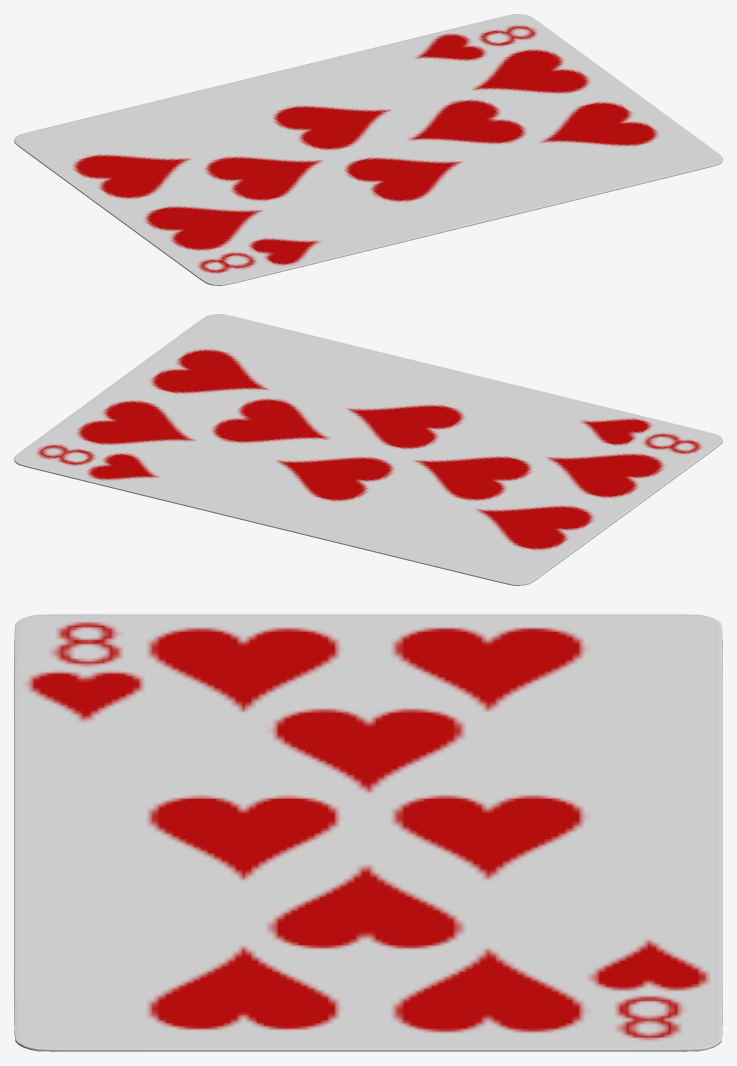
Rendered from __of_hearts6.fbx.
3 renders of one model, top to bottom at view 1: azimuth 30°, elevation 25°; view 2: azimuth 150°, elevation 25°; view 3: azimuth 270°, elevation 25°, orthographic. The views are drawn at different scales.
Visible parts, largest first — view 1: __of_hearts6; view 2: __of_hearts6; view 3: __of_hearts6.
Part boxes in pixels (box(x1,y1,x2,y2)): __of_hearts6: box(14, 14, 722, 285); __of_hearts6: box(14, 314, 722, 585); __of_hearts6: box(14, 614, 722, 1051).
Bounding box in the file's own units: 856 × 2.4 × 589.
